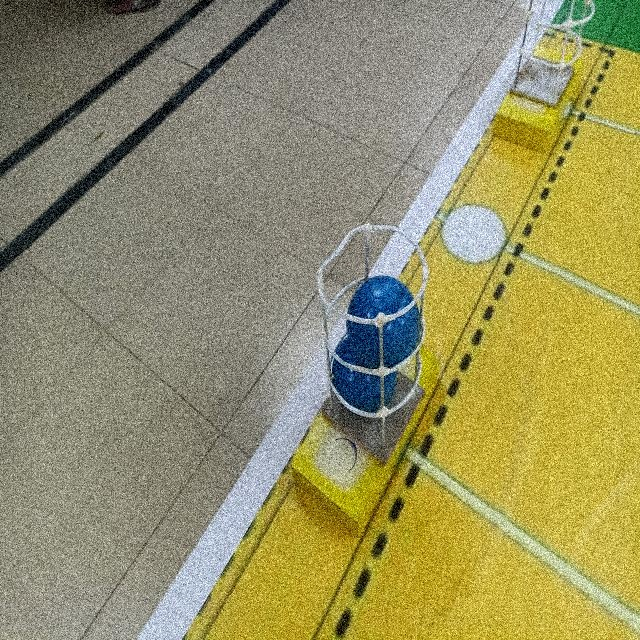blue_ball: (344, 275, 423, 366), (328, 335, 401, 427)
silo: (310, 220, 432, 483)
